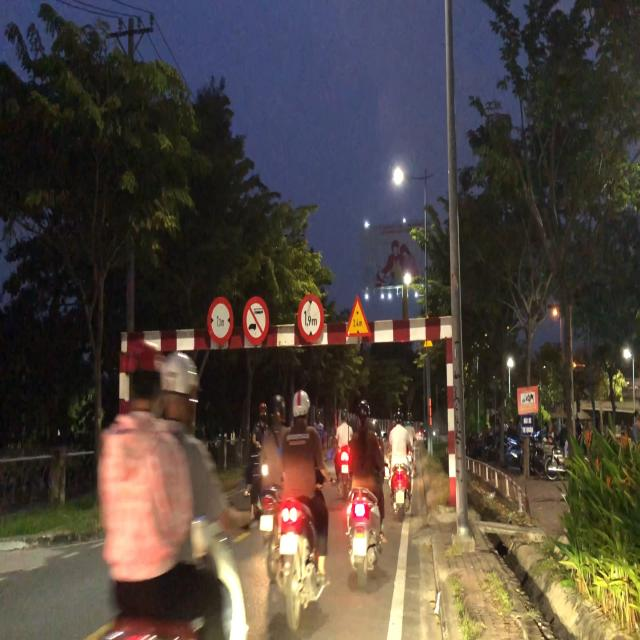Bien bao cam xe oto khach va xe oto tai: (237, 284, 273, 356)
Bien bao chieu cao tinh khong thuc te: (346, 294, 375, 339)
Bien bao han che chieu cao: (296, 290, 326, 345)
